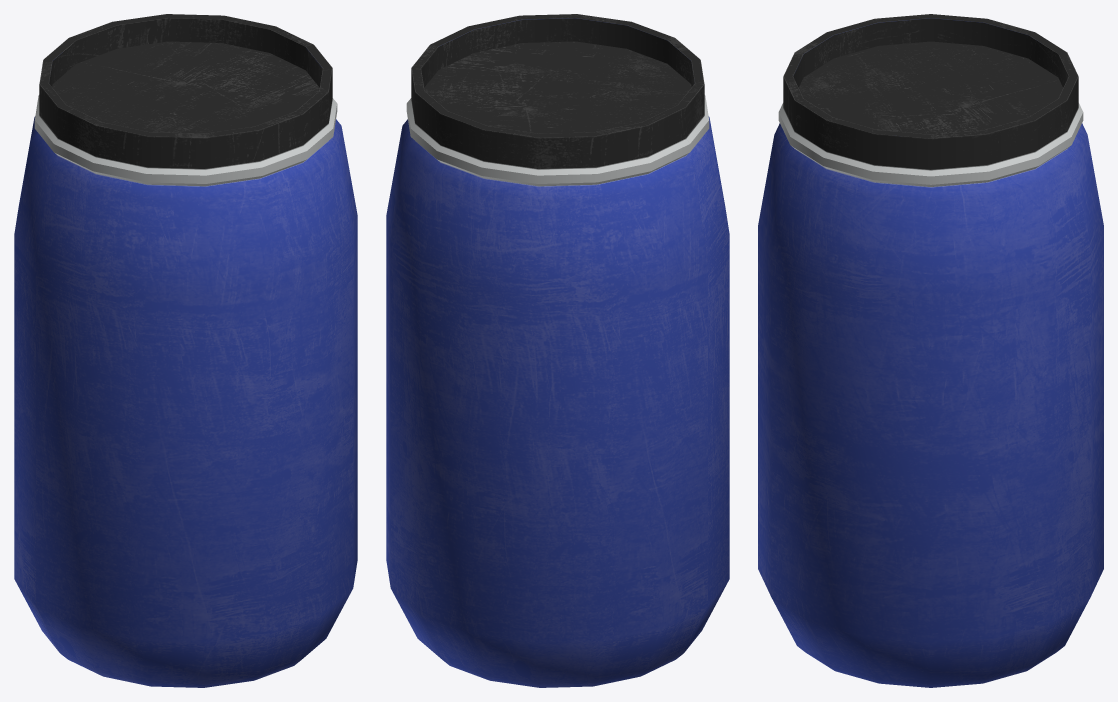
Rendered from Water_Barrel.fbx.
3 views of the same model, side by side, from view 1: azimuth 30°, elevation 25°; view 2: azimuth 150°, elevation 25°; view 3: azimuth 270°, elevation 25° (orthographic).
Parts seen in each view (by area): view 1: Water_Barrel; view 2: Water_Barrel; view 3: Water_Barrel.
Part boxes in pixels (left/top/right/bottom): Water_Barrel: left=14, top=14, right=357, bottom=687; Water_Barrel: left=386, top=14, right=729, bottom=687; Water_Barrel: left=758, top=14, right=1103, bottom=687.
Size of the model in its own units: 45.42 by 80.3 by 45.42.
1 material, 1 textured.
